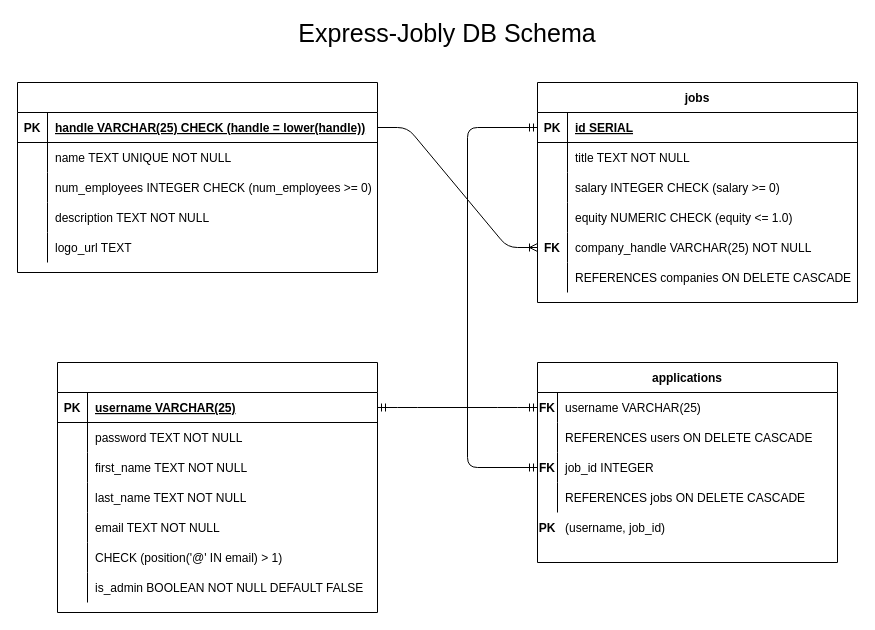
This 875x630 diagram has some shape labels left out. Each missing label, with the box of its shape:
companies: (16, 82, 378, 272)
users: (56, 362, 378, 612)
